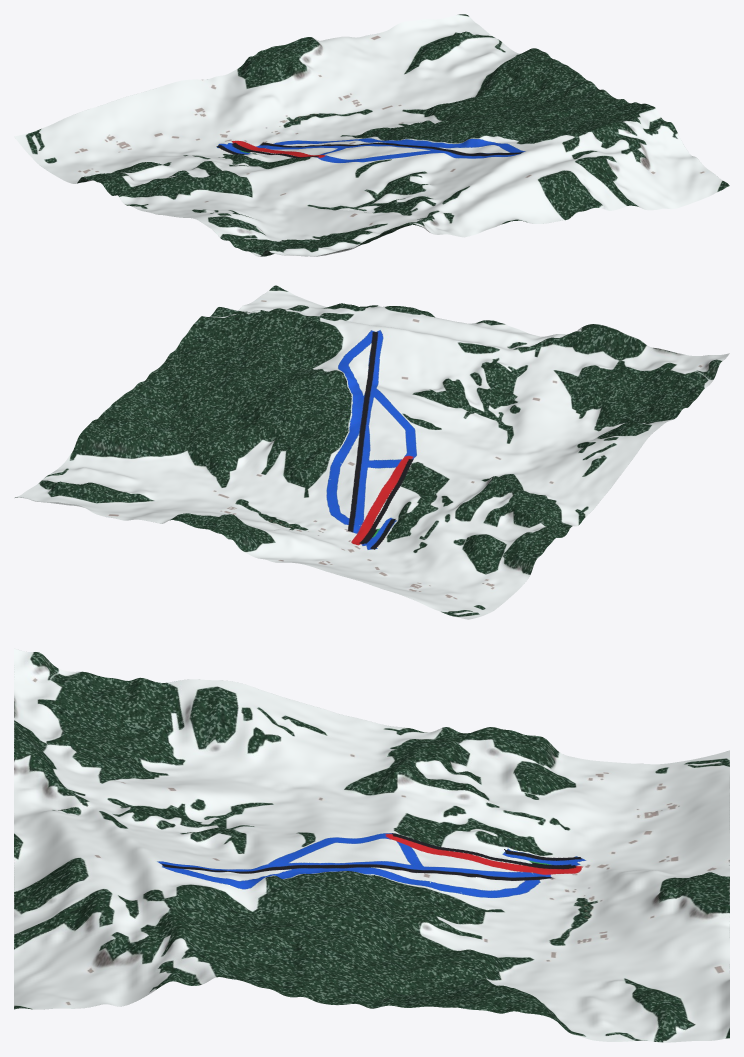
3 renders of one model, top to bottom at view 1: azimuth 30°, elevation 25°; view 2: azimuth 150°, elevation 25°; view 3: azimuth 270°, elevation 25°, orthographic. The views are drawn at different scales.
Parts seen in each view (by area): view 1: G3_Thaler_Hoehe.glb; view 2: G3_Thaler_Hoehe.glb; view 3: G3_Thaler_Hoehe.glb.
Boxes of the visible parts, x1,y1,x2,y2 form: G3_Thaler_Hoehe.glb: (14, 14, 729, 256); G3_Thaler_Hoehe.glb: (15, 285, 729, 619); G3_Thaler_Hoehe.glb: (14, 648, 729, 1042).
Size of the model in its own units: 2015 by 360 by 2015.
1 material, 1 textured.
